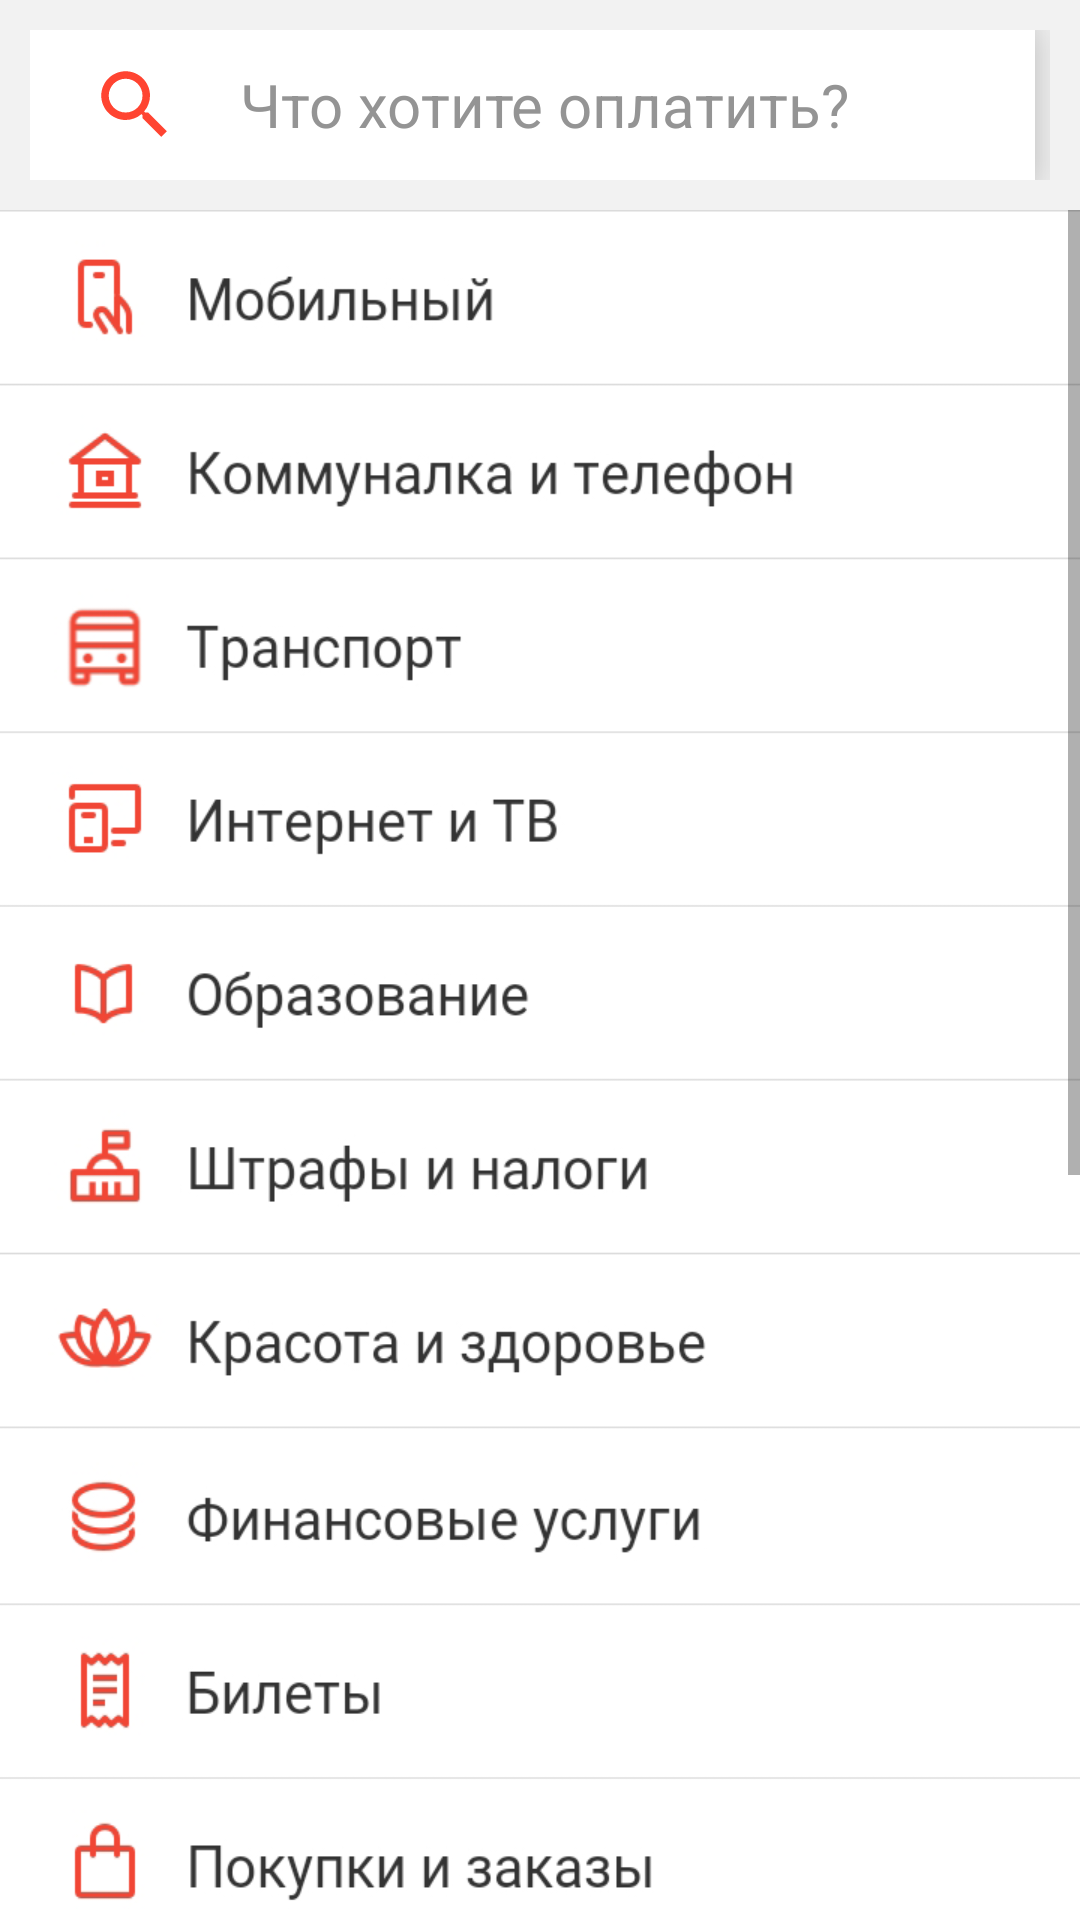

Locate icon controls on the screen. Image size 1080px×1920px, boxes as Rect(x1, y1, x2, y2).
search: Rect(101, 71, 167, 137)
